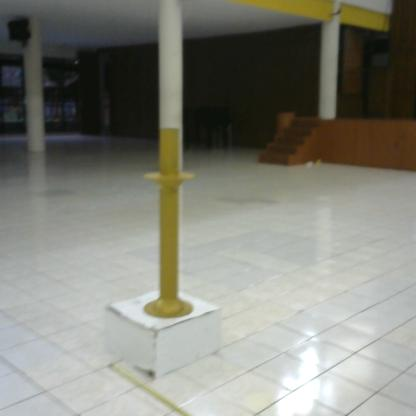pole: (140, 126, 200, 326)
